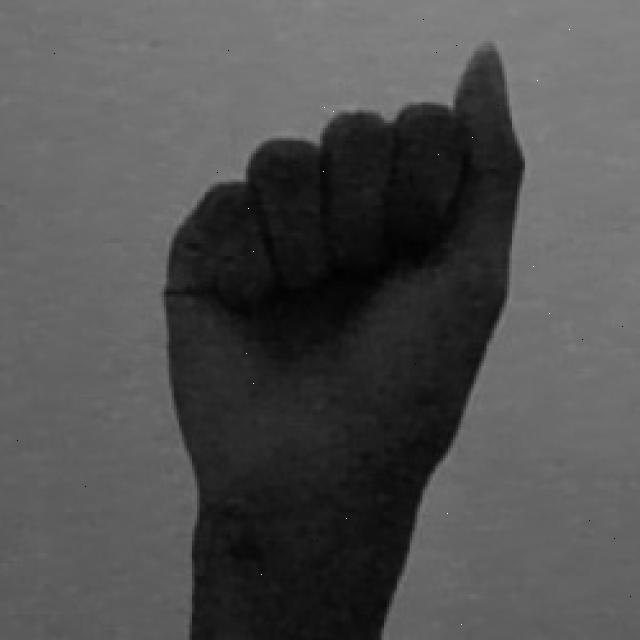A: (157, 32, 534, 640)
